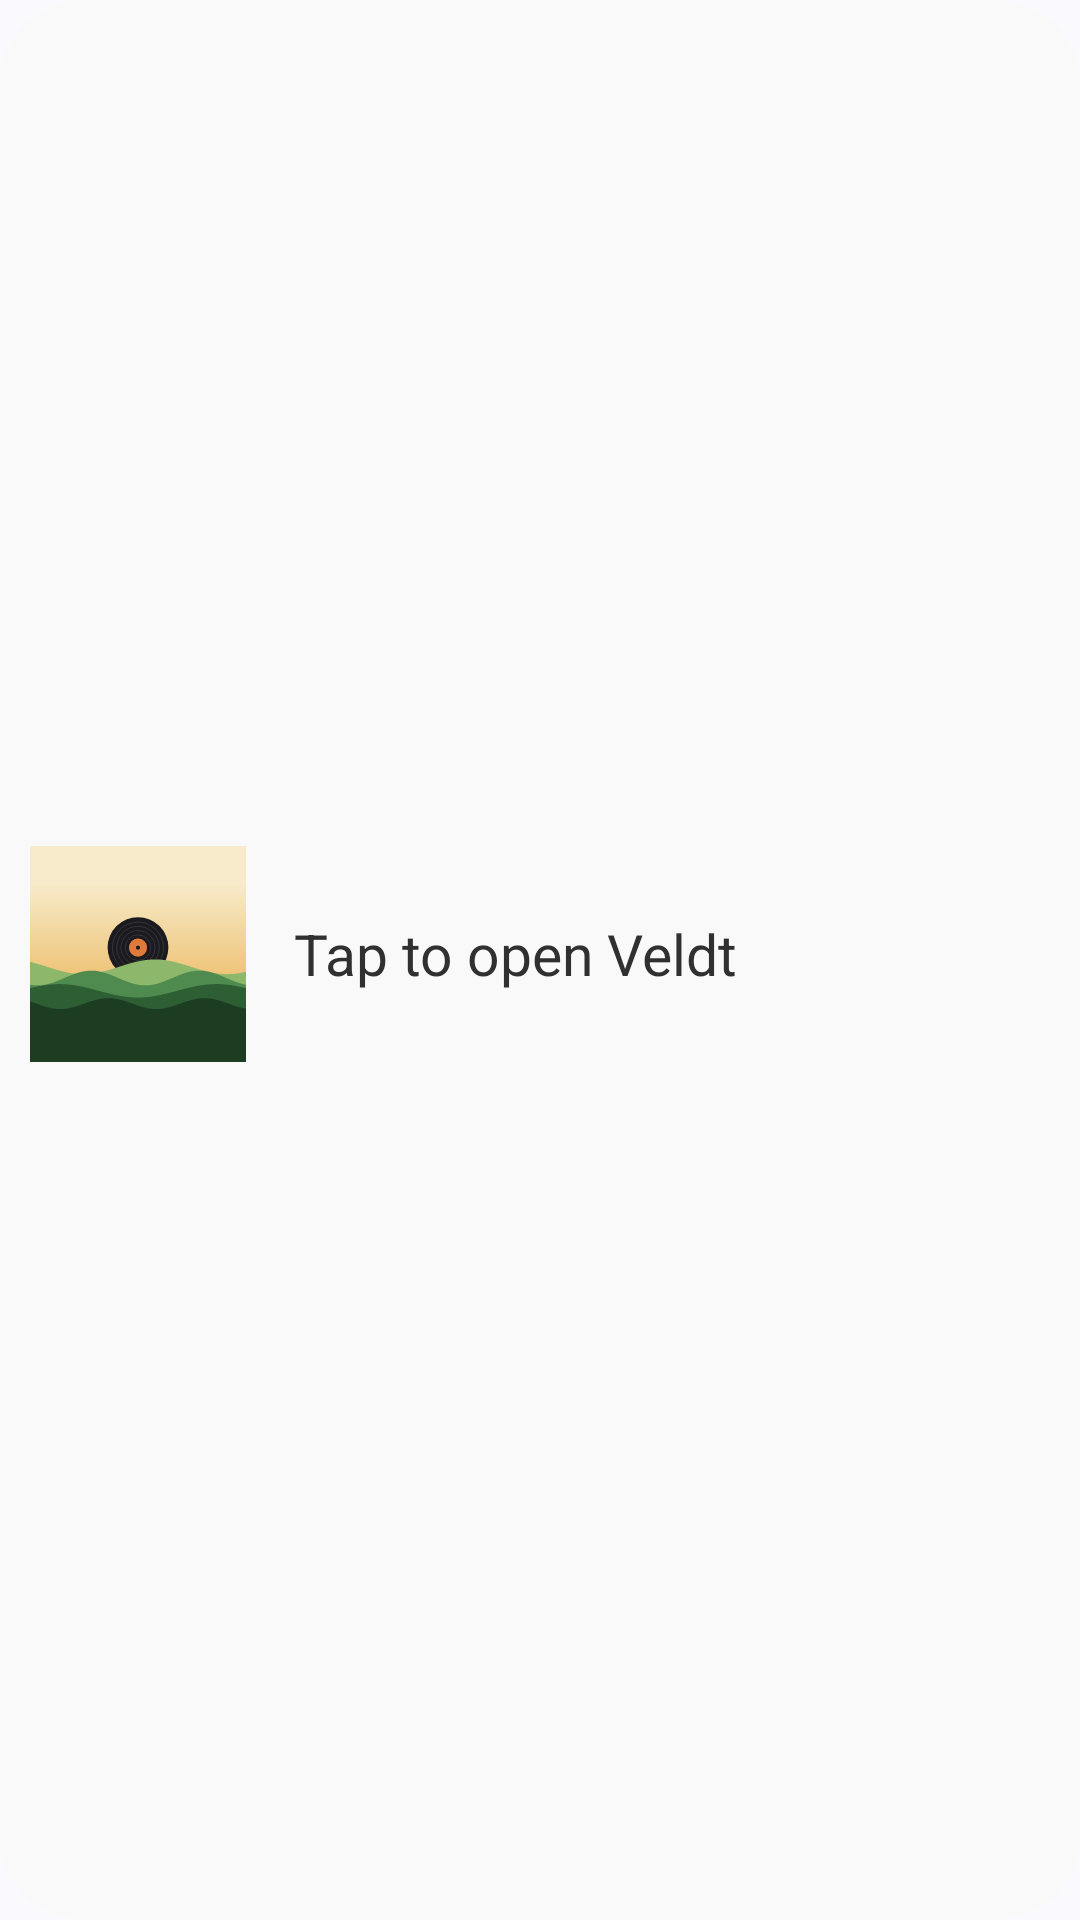

Screen size 1080 x 1920. Icon name, then its box in pixels as [x1,y1,x2,y2]:
widget empty art: [30,846,246,1062]
